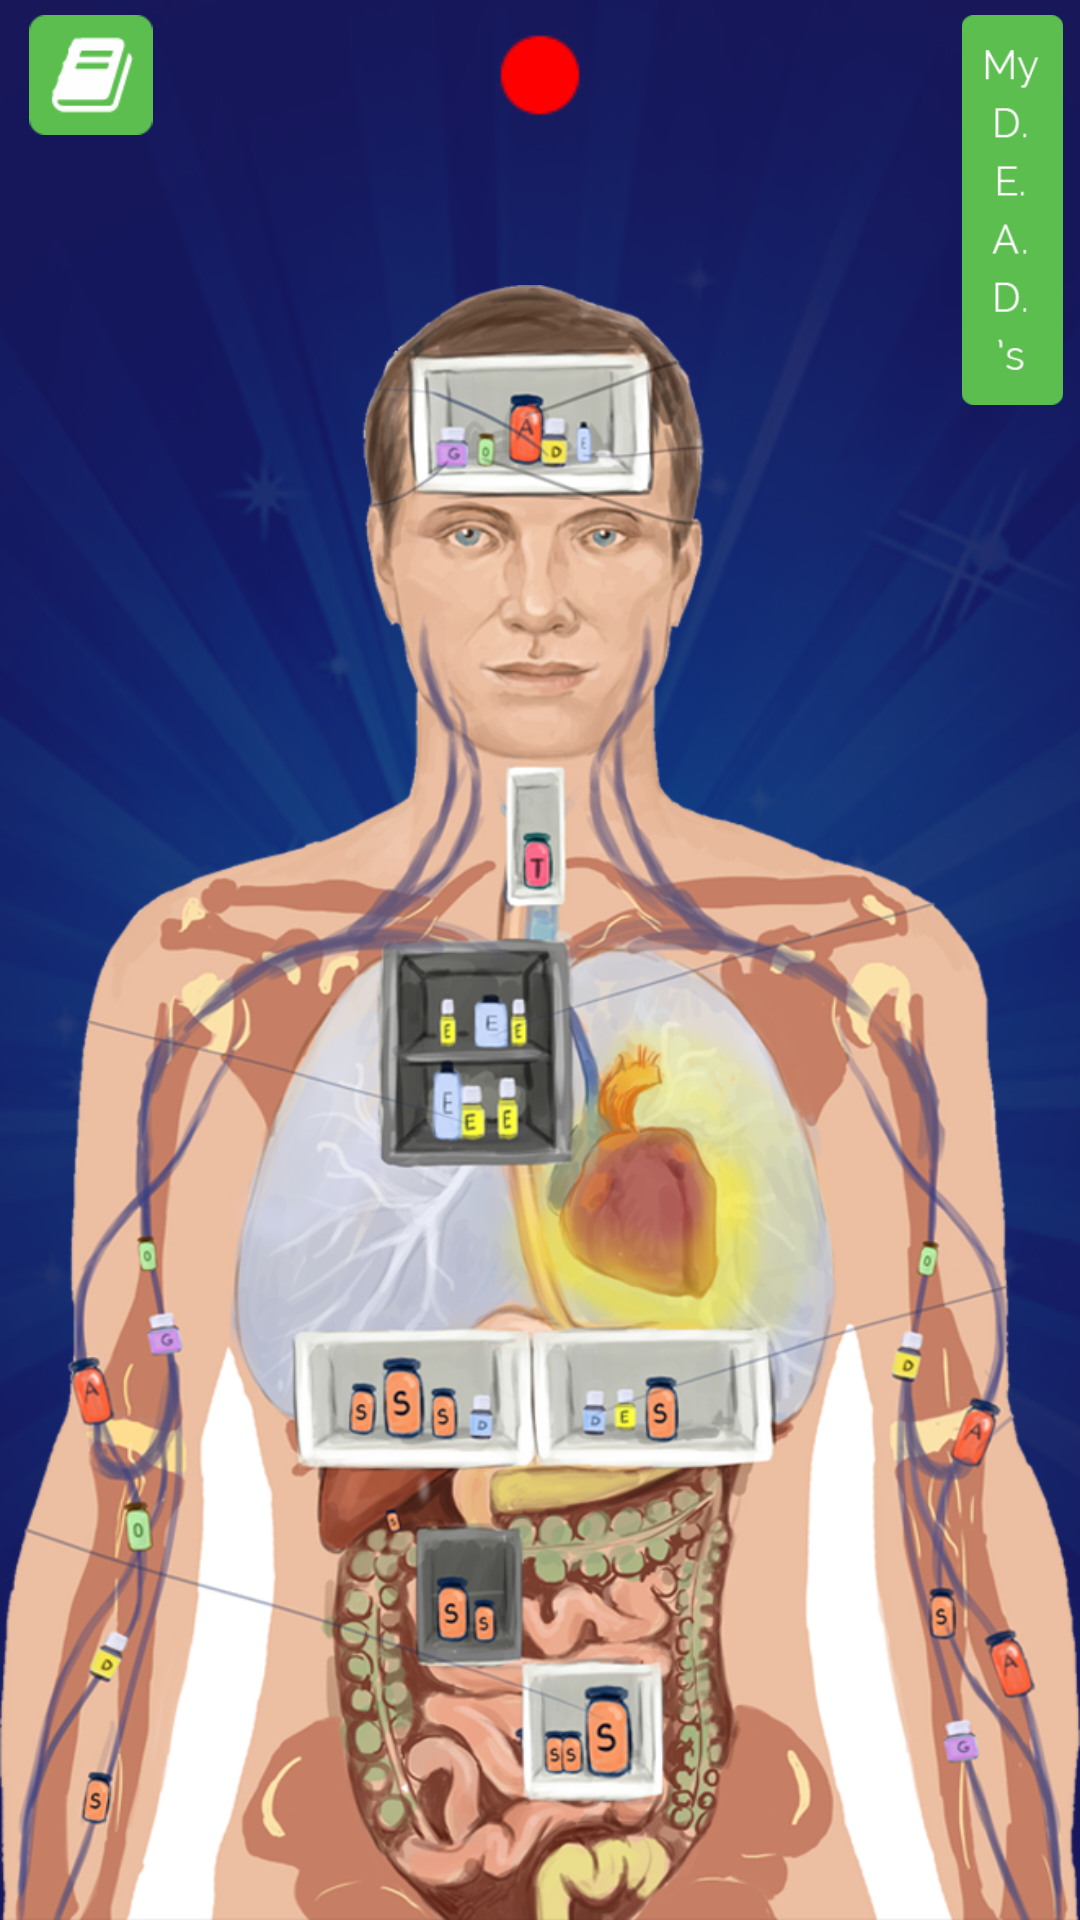

Where icons sit on this 1080px×1920px app screen, as bbox=[x1, y1, x2, y2]:
bookicon: bbox=[29, 15, 153, 135]
